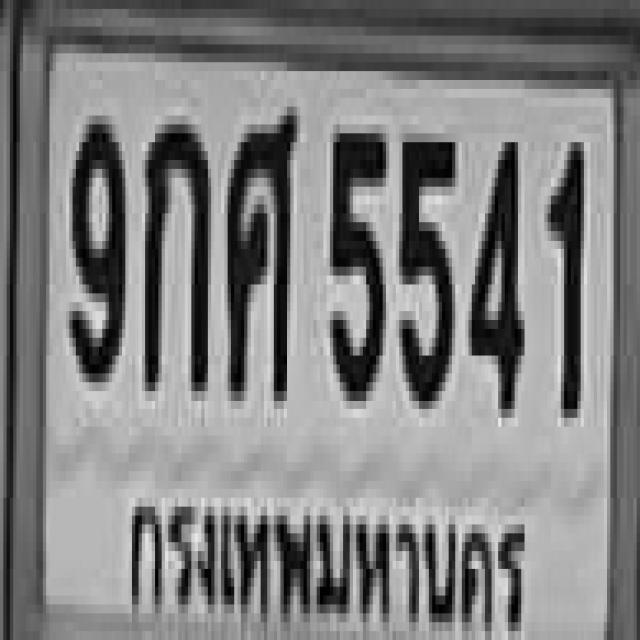1: (544, 133, 581, 409)
10GorGai: (142, 116, 208, 382)
4: (465, 133, 521, 409)
47SorSala: (224, 102, 294, 396)
5: (396, 124, 452, 400), (327, 125, 382, 391)
9: (66, 107, 122, 373)
Bangkok: (122, 465, 535, 640)
